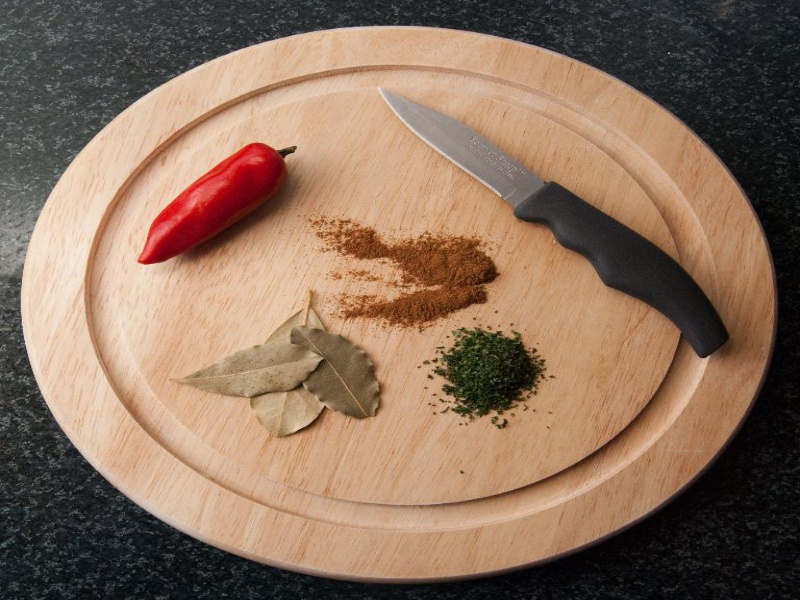knife: (374, 80, 729, 360)
